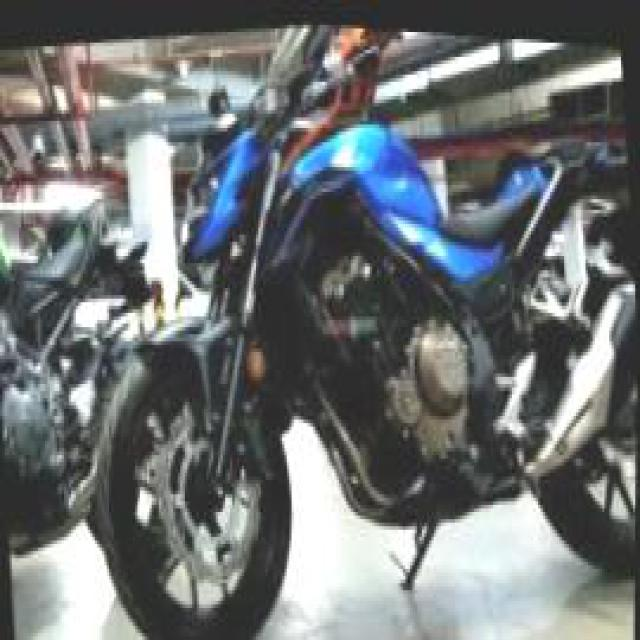CB500F: (62, 14, 638, 636)
